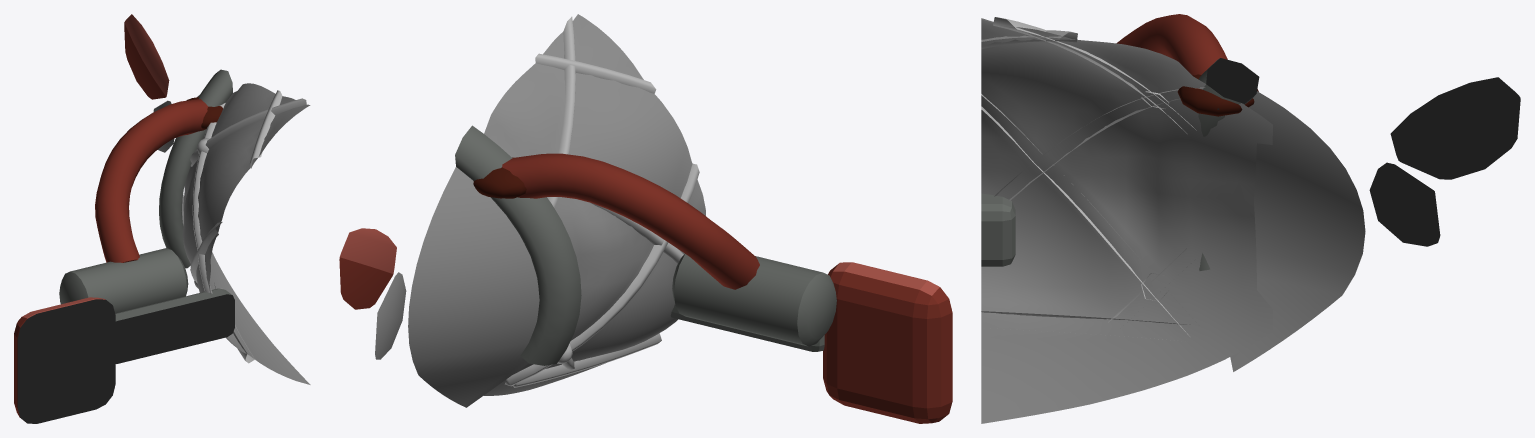
The model's file is zeppelin_39.glb.
3 renders of one model, left to right at view 1: azimuth 30°, elevation 25°; view 2: azimuth 150°, elevation 25°; view 3: azimuth 270°, elevation 25°, orthographic. The views are drawn at different scales.
Visible parts, largest first — view 1: gun_mount.001, envelope.001, gun_hose.001, gun_strut.001, gun_cap.001, cowl_rim.001, net_ropes.001, duct.001, gun_hose_collar.001; view 2: envelope.001, cowl.001, gun_mount.001, gun_hose.001, gun_cap.001, cowl_rim.001, net_ropes.001, duct.001, duct_boot_l.001, net_load.001, gun_hose_collar.001, gun_strut.001; view 3: envelope.001, cowl.001, duct.001, duct_boot_l.001, gun_hose.001, net_ropes.001, gun_strut.001, cowl_rim.001, gun_hose_collar.001.
Boxes of the visible parts, <box> form: gun_mount.001: <box>14,297,115,423</box>; envelope.001: <box>182,83,310,384</box>; gun_hose.001: <box>95,99,208,262</box>; gun_strut.001: <box>109,288,234,363</box>; gun_cap.001: <box>59,248,188,313</box>; cowl_rim.001: <box>159,69,232,268</box>; net_ropes.001: <box>188,90,306,293</box>; duct.001: <box>124,14,169,99</box>; gun_hose_collar.001: <box>186,97,222,129</box>; envelope.001: <box>484,14,705,395</box>; cowl.001: <box>408,167,539,407</box>; gun_mount.001: <box>823,262,952,423</box>; gun_hose.001: <box>502,153,759,289</box>; gun_cap.001: <box>672,254,836,346</box>; cowl_rim.001: <box>455,125,581,365</box>; net_ropes.001: <box>505,16,699,386</box>; duct.001: <box>339,228,396,309</box>; duct_boot_l.001: <box>375,272,406,359</box>; net_load.001: <box>513,333,661,387</box>; gun_hose_collar.001: <box>473,157,526,198</box>; gun_strut.001: <box>670,304,824,351</box>; envelope.001: <box>981,18,1272,423</box>; cowl.001: <box>1230,91,1365,371</box>; duct.001: <box>1390,77,1520,179</box>; duct_boot_l.001: <box>1369,162,1440,246</box>; gun_hose.001: <box>1116,14,1227,75</box>; net_ropes.001: <box>981,17,1204,336</box>; gun_strut.001: <box>981,193,1015,266</box>; cowl_rim.001: <box>1198,58,1259,270</box>; gun_hose_collar.001: <box>1177,74,1258,116</box>.
Size of the model in its own units: 22.8 by 20.95 by 25.16.
